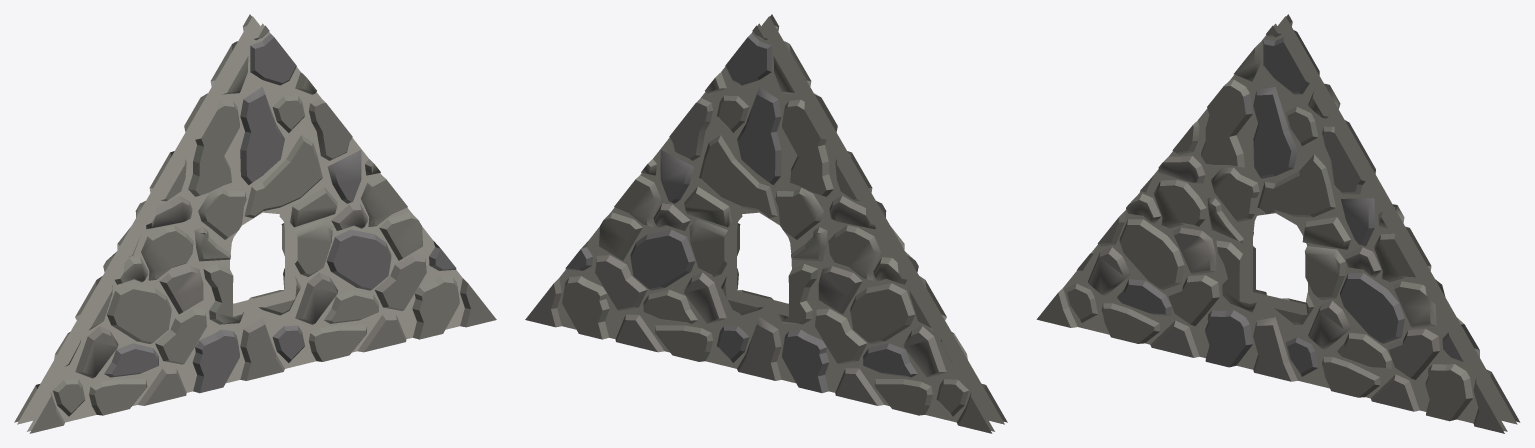
The model's file is rpgpp_ag_roof_end_01_6x5_wall_window_04c.fbx.
3 views of the same model, side by side, from view 1: azimuth 30°, elevation 25°; view 2: azimuth 150°, elevation 25°; view 3: azimuth 330°, elevation 25° (orthographic).
Visible parts, largest first — view 1: rpgpp_ag_roof_end_01_6x5_wall_window_04c; view 2: rpgpp_ag_roof_end_01_6x5_wall_window_04c; view 3: rpgpp_ag_roof_end_01_6x5_wall_window_04c.
Boxes of the visible parts, x1=… form: rpgpp_ag_roof_end_01_6x5_wall_window_04c: x1=14, y1=14, x2=496, y2=433; rpgpp_ag_roof_end_01_6x5_wall_window_04c: x1=525, y1=14, x2=1007, y2=433; rpgpp_ag_roof_end_01_6x5_wall_window_04c: x1=1036, y1=14, x2=1520, y2=433.
Size of the model in its own units: 6.38 by 4.58 by 0.404.
